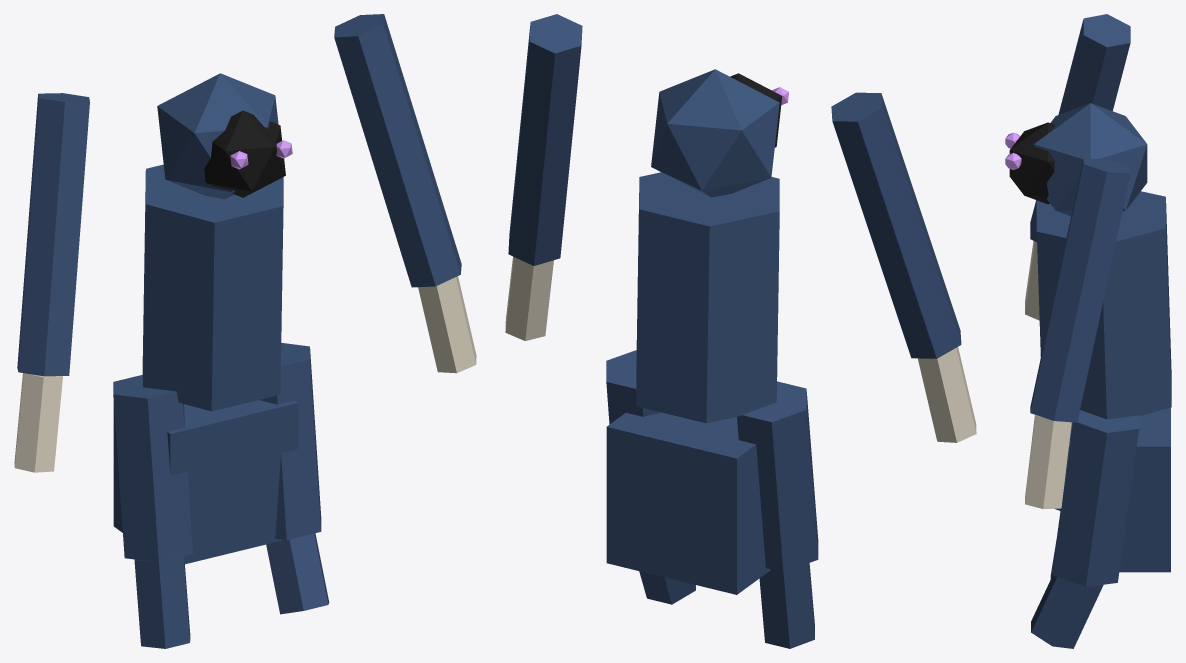
File: npcpose_wraith_walk_02.glb
3 renders of one model, left to right at view 1: azimuth 30°, elevation 25°; view 2: azimuth 150°, elevation 25°; view 3: azimuth 270°, elevation 25°, orthographic. The views are drawn at different scales.
Visible parts, largest first — view 1: npcpose; view 2: npcpose; view 3: npcpose.
Part boxes in pixels (x1=…): npcpose: x1=14, y1=14, x2=476, y2=648; npcpose: x1=505, y1=14, x2=976, y2=648; npcpose: x1=1005, y1=14, x2=1171, y2=648.
Bounding box in the file's own units: 0.9388 × 1.09 × 0.3123.
